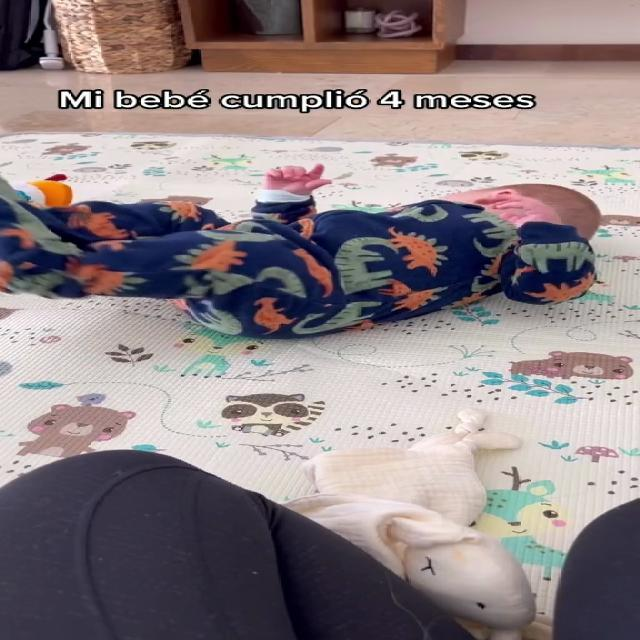baby: (0, 160, 611, 356)
